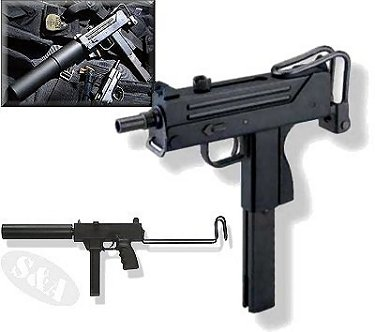rifle: (126, 46, 348, 312), (1, 194, 200, 296), (6, 1, 137, 93)
